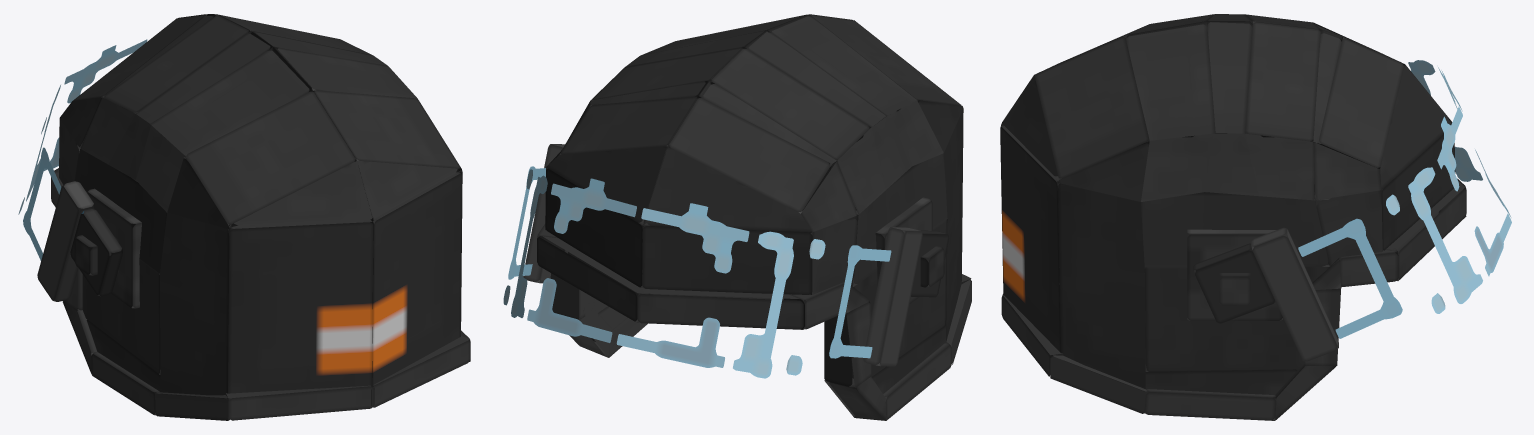
The model's file is sobr_kit_h.obj.
3 views of the same model, side by side, from view 1: azimuth 30°, elevation 25°; view 2: azimuth 150°, elevation 25°; view 3: azimuth 270°, elevation 25° (orthographic). The views are drawn at different scales.
Parts seen in each view (by area): view 1: cube; view 2: cube; view 3: cube.
Boxes of the visible parts, bbox=[...] form: cube: bbox=[18, 14, 470, 420]; cube: bbox=[503, 14, 971, 420]; cube: bbox=[1000, 14, 1511, 420].
Size of the model in its own units: 0.8222 by 0.7112 by 1.02.
